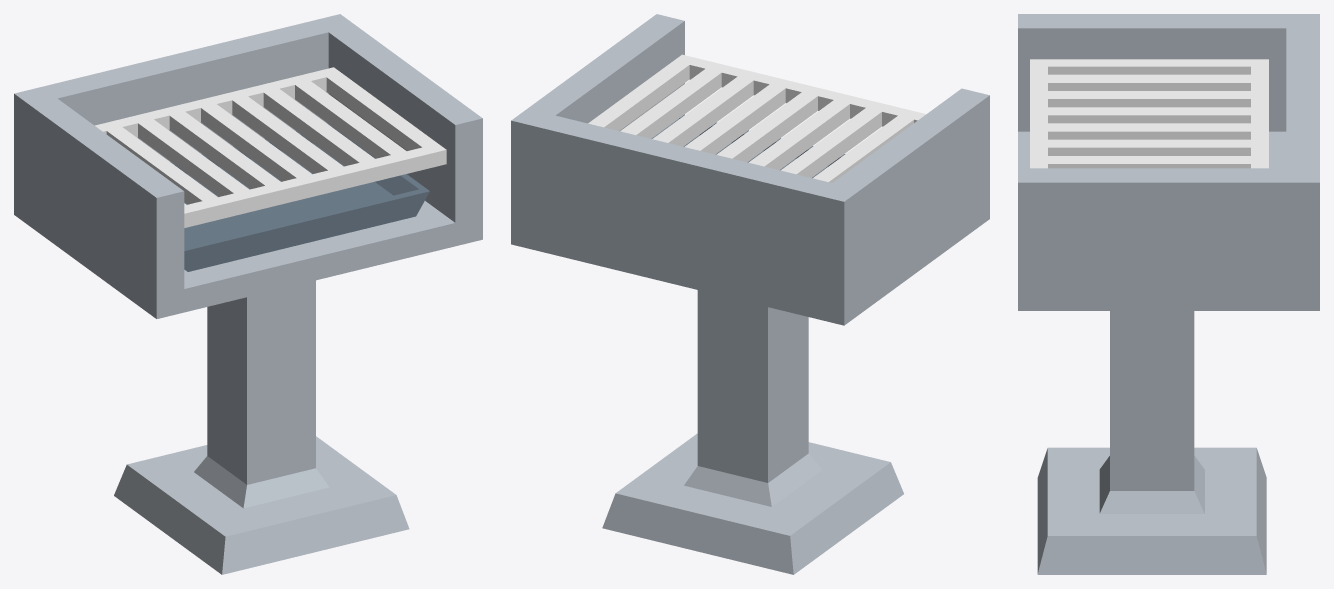
Rendered from Grelhador.FBX.
3 views of the same model, side by side, from view 1: azimuth 30°, elevation 25°; view 2: azimuth 150°, elevation 25°; view 3: azimuth 270°, elevation 25° (orthographic). The views are drawn at different scales.
Parts seen in each view (by area): view 1: Box001, Box002, Box003; view 2: Box001, Box002; view 3: Box001, Box002.
Part boxes in pixels (box(x1,y1,x2,y2)): Box001: box(14, 14, 482, 574); Box002: box(95, 67, 446, 227); Box003: box(170, 123, 429, 271); Box001: box(511, 14, 989, 574); Box002: box(588, 54, 925, 182); Box001: box(1018, 14, 1319, 574); Box002: box(1030, 59, 1268, 168).
Bounding box in the file's own units: 10.48 × 12.34 × 7.93.
